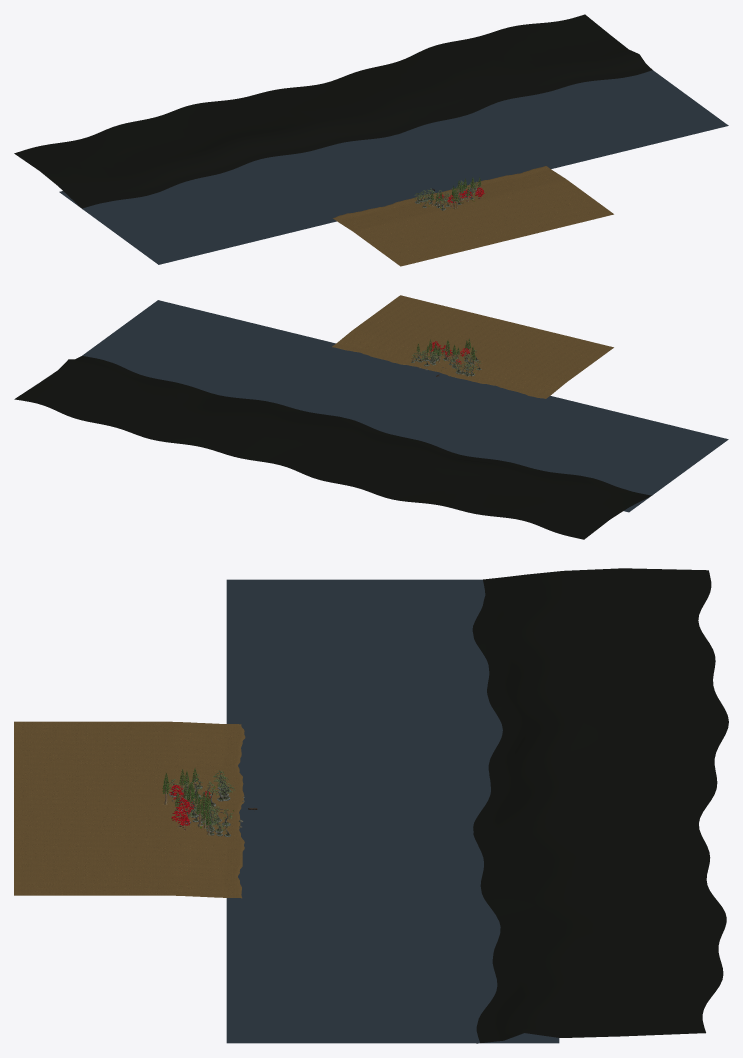
The model's file is camp.glb.
3 renders of one model, top to bottom at view 1: azimuth 30°, elevation 25°; view 2: azimuth 150°, elevation 25°; view 3: azimuth 270°, elevation 25°, orthographic. The views are drawn at different scales.
Parts seen in each view (by area): view 1: m3, m4, m0; view 2: m3, m4, m0; view 3: m3, m4, m0.
Boxes of the visible parts, bbox=[...] form: m3: bbox=[59, 70, 728, 264]; m4: bbox=[14, 14, 652, 208]; m0: bbox=[333, 166, 613, 266]; m3: bbox=[82, 300, 728, 512]; m4: bbox=[14, 356, 651, 539]; m0: bbox=[332, 295, 613, 398]; m3: bbox=[226, 579, 559, 1043]; m4: bbox=[472, 568, 728, 1043]; m0: bbox=[14, 721, 245, 898].
Bounding box in the file's own units: 640 × 22.69 × 417.
19 materials, 9 textured.
